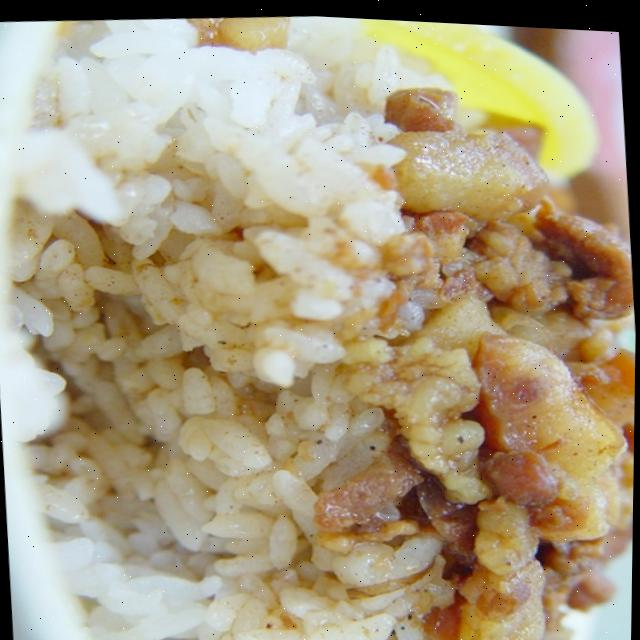猪肉菜式: (7, 13, 640, 640)
